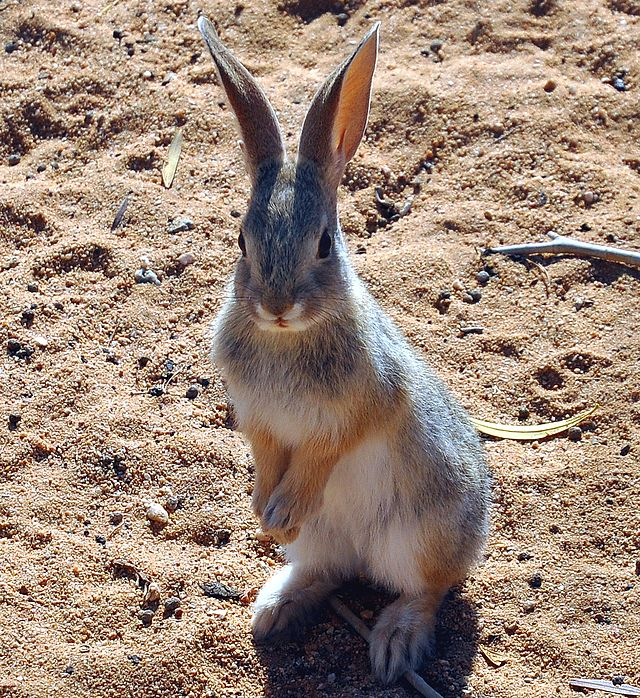bunny: (194, 17, 502, 688)
